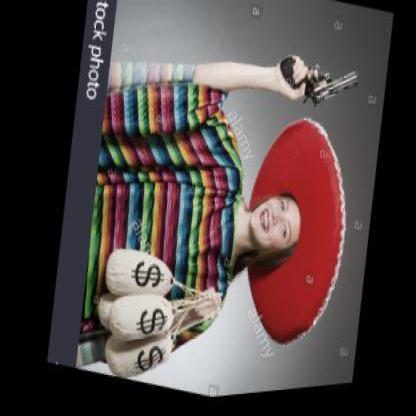pistol: (271, 38, 366, 128)
